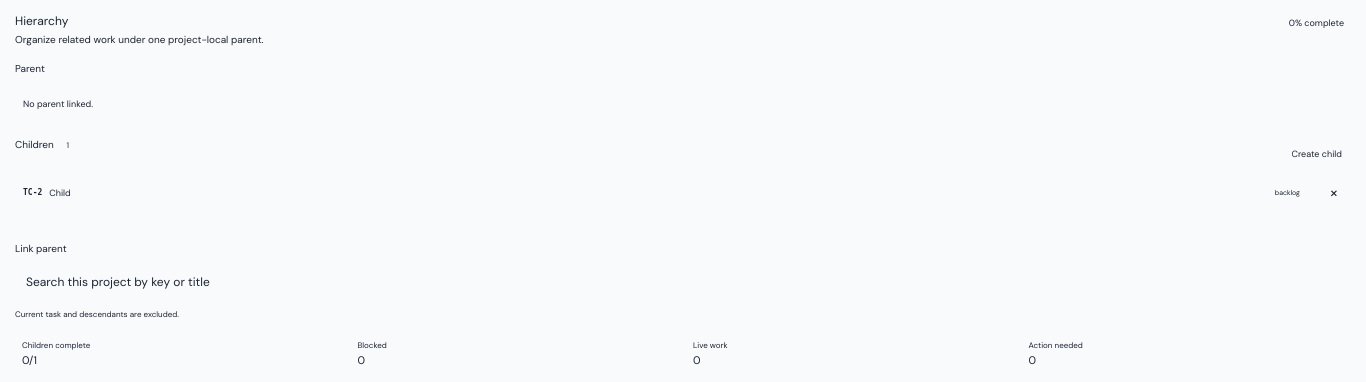
Test: TaskHierarchy accessible panel › uses the hierarchy version and restores focus after removing a child
The width and height of the screenshot is (1366, 382).
Click the button named "Remove TC-2 as a child" at (1334, 192), box [1317,170,1351,216]
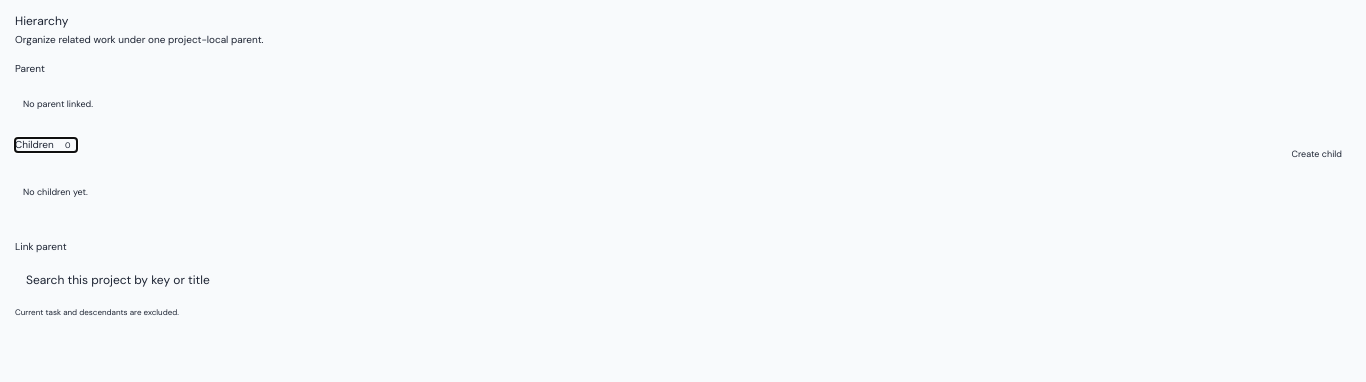
Now the text "No children yet." is shown, box [23,186,88,198]
